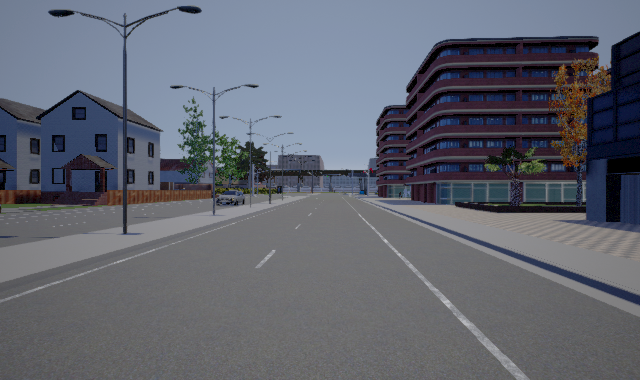vehicle: (216, 190, 245, 206)
